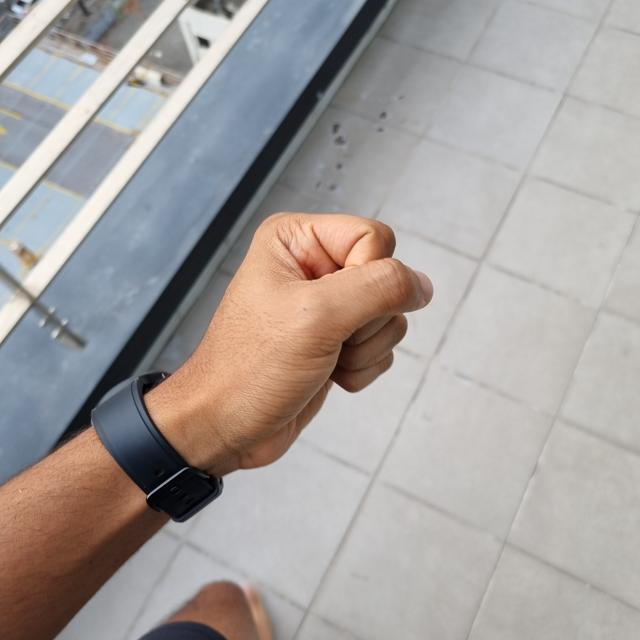Rock: (154, 212, 428, 473)
